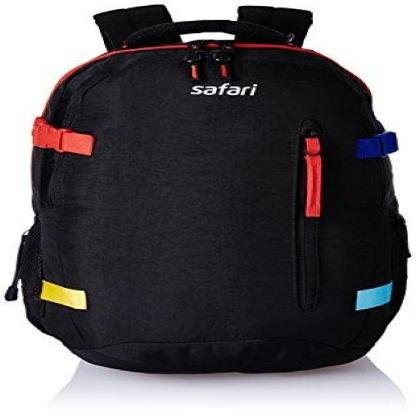bag: (7, 0, 416, 379)
